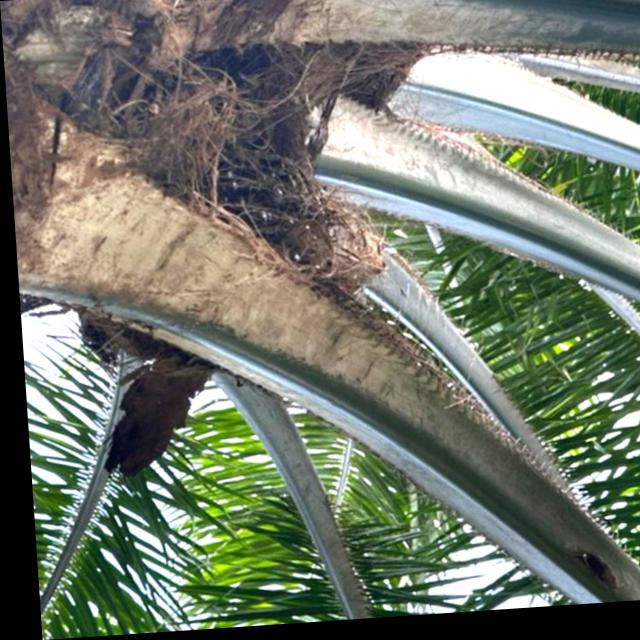unripe: (152, 100, 340, 278)
